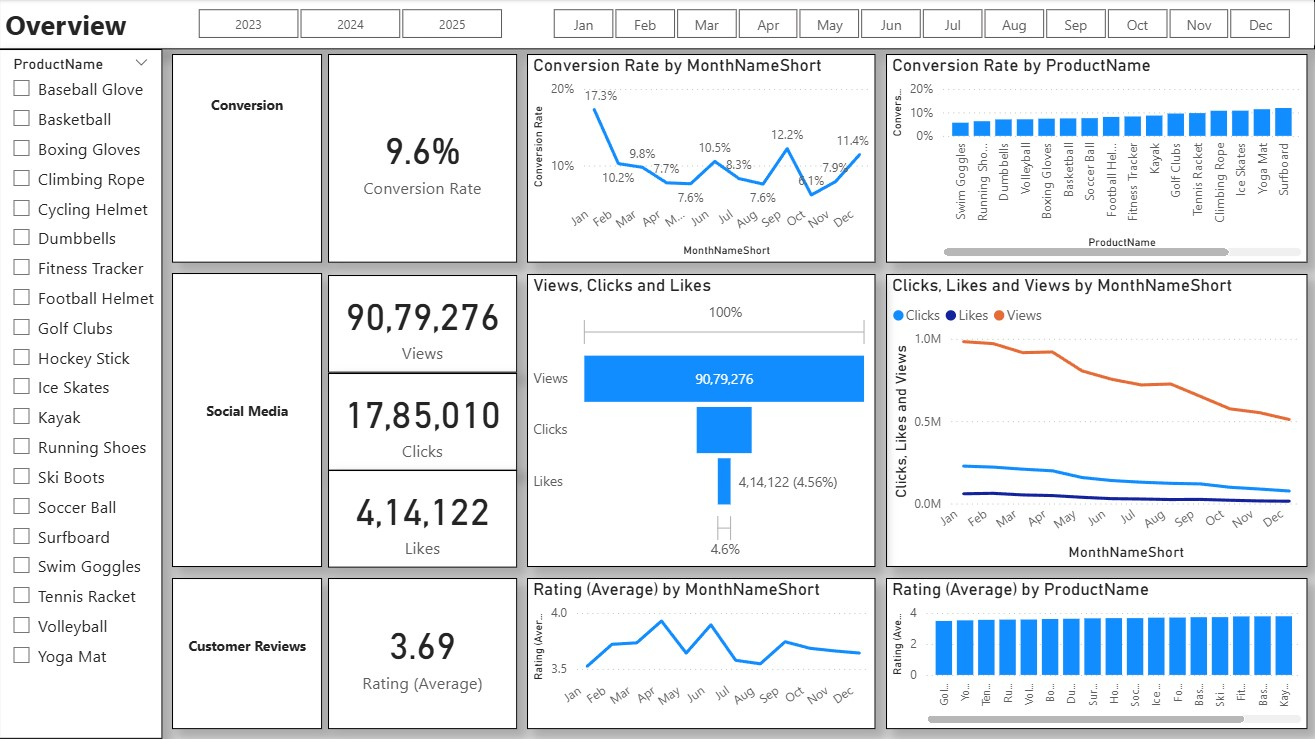

Layout of this report page (visuals, bound fields, positions):
{"tool":"powerbi","page":{"name":"Overview","canvas":[1280,720],"ordinal":0},"visuals":[{"type":"textbox","box":[0,0,1280,48.6],"z":0},{"type":"slicer","fields":{"Values":["dim_products.ProductName"]},"box":[0,48.6,158.5,671.1],"z":1000},{"type":"textbox","box":[168.3,53.1,146.2,202.6],"z":2000},{"type":"textbox","box":[168.3,266.9,146.2,285.7],"z":3000},{"type":"textbox","box":[168.3,563.6,146.2,147.3],"z":4000},{"type":"card","fields":{"Values":["Calculations.Conversion Rate"]},"box":[320,53.1,183.8,202.6],"z":5000},{"type":"card","fields":{"Values":["Calculations.Views"]},"box":[320.1,268,183.8,95.3],"z":6000},{"type":"card","fields":{"Values":["Calculations.Clicks"]},"box":[320.1,363.3,183.8,95.3],"z":7000},{"type":"card","fields":{"Values":["Calculations.Likes"]},"box":[320,458.4,183.8,95.2],"z":8000},{"type":"card","fields":{"Values":["Calculations.Rating (Average)"]},"box":[320,563.6,183.8,147.3],"z":9000},{"type":"slicer","fields":{"Values":["Calendar.Year"]},"box":[168.3,2.9,345.3,41.8],"z":10000},{"type":"slicer","fields":{"Values":["Calendar.MonthNameShort"]},"box":[513.8,3.3,766.2,42.1],"z":11000},{"type":"lineChart","fields":{"Category":["Calendar.MonthNameShort"],"Y":["Calculations.Conversion Rate"]},"box":[513.8,53.1,338.8,202.6],"z":12000},{"type":"clusteredColumnChart","fields":{"Y":["Calculations.Conversion Rate"],"Category":["dim_products.ProductName"]},"box":[862.6,53.1,409.7,202.6],"z":13000},{"type":"lineChart","fields":{"Category":["Calendar.MonthNameShort"],"Y":["Calculations.Clicks","Calculations.Likes","Calculations.Views"]},"box":[862.6,268,409.7,284.6],"z":14000},{"type":"funnel","fields":{"Y":["Calculations.Views","Calculations.Clicks","Calculations.Likes"]},"box":[513.8,268,338.8,284.6],"z":15000},{"type":"lineChart","fields":{"Category":["Calendar.MonthNameShort"],"Y":["Calculations.Rating (Average)"]},"box":[513.8,563.6,338.8,147.3],"z":16000},{"type":"clusteredColumnChart","fields":{"Category":["dim_products.ProductName"],"Y":["Calculations.Rating (Average)"]},"box":[862.6,563.6,409.7,147.3],"z":17000}]}

Visuals, with their boxes in screenshot pixels (x1, y1, x2, y2), scaled from the page's 1280x720 canvas onto the 1315x739 screenshot:
textbox: [x1=0, y1=0, x2=1314, y2=50]
slicer - dim_products.ProductName: [x1=0, y1=50, x2=163, y2=738]
textbox: [x1=173, y1=55, x2=323, y2=262]
textbox: [x1=173, y1=274, x2=323, y2=567]
textbox: [x1=173, y1=578, x2=323, y2=730]
card - Calculations.Conversion Rate: [x1=329, y1=55, x2=518, y2=262]
card - Calculations.Views: [x1=329, y1=275, x2=518, y2=373]
card - Calculations.Clicks: [x1=329, y1=373, x2=518, y2=471]
card - Calculations.Likes: [x1=329, y1=470, x2=518, y2=568]
card - Calculations.Rating (Average): [x1=329, y1=578, x2=518, y2=730]
slicer - Calendar.Year: [x1=173, y1=3, x2=528, y2=46]
slicer - Calendar.MonthNameShort: [x1=528, y1=3, x2=1314, y2=47]
lineChart - Calendar.MonthNameShort x Calculations.Conversion Rate: [x1=528, y1=55, x2=876, y2=262]
clusteredColumnChart - Calculations.Conversion Rate x dim_products.ProductName: [x1=886, y1=55, x2=1307, y2=262]
lineChart - Calendar.MonthNameShort x Calculations.Clicks: [x1=886, y1=275, x2=1307, y2=567]
funnel - Calculations.Views x Calculations.Clicks: [x1=528, y1=275, x2=876, y2=567]
lineChart - Calendar.MonthNameShort x Calculations.Rating (Average): [x1=528, y1=578, x2=876, y2=730]
clusteredColumnChart - dim_products.ProductName x Calculations.Rating (Average): [x1=886, y1=578, x2=1307, y2=730]
